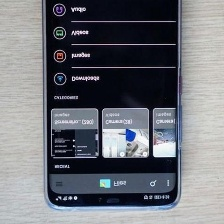phone: (40, 0, 185, 216)
